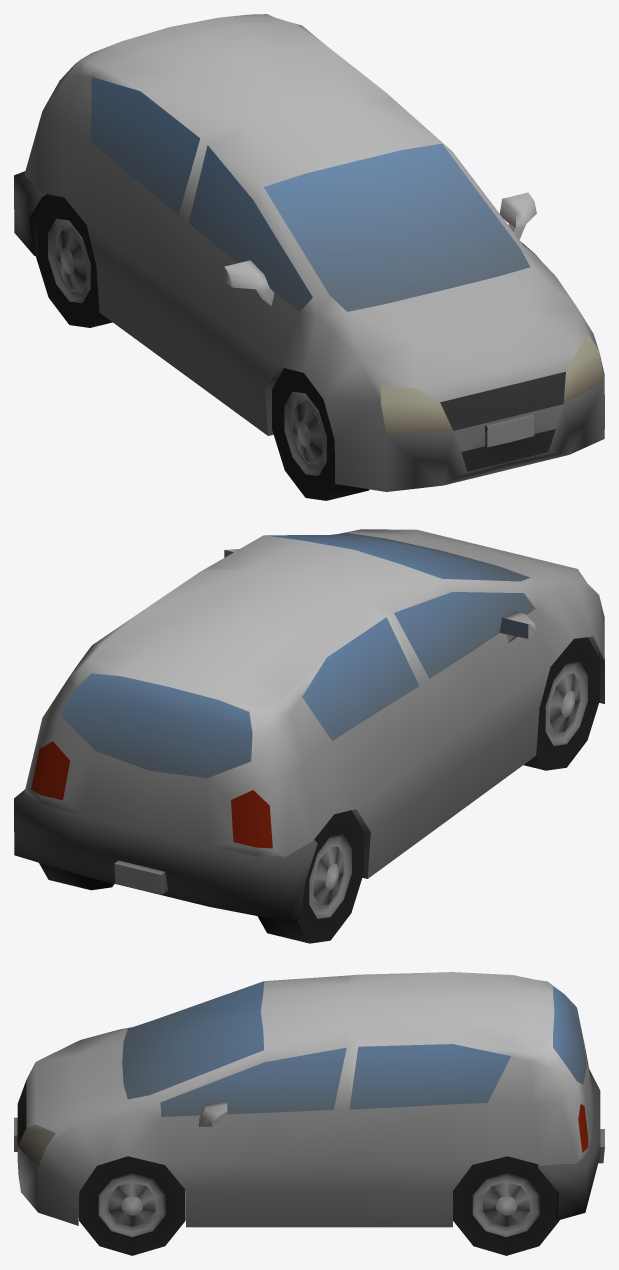
The model's file is vehicles-cars-hatchback_v2.fbx.
The picture shows the model from 3 angles, top to bottom: view 1: azimuth 30°, elevation 25°; view 2: azimuth 150°, elevation 25°; view 3: azimuth 270°, elevation 25°; orthographic projection. The views are drawn at different scales.
Parts seen in each view (by area): view 1: Hatchback_v2; view 2: Hatchback_v2; view 3: Hatchback_v2.
Boxes of the visible parts, x1,y1,x2,y2 form: Hatchback_v2: (14,14,604,500); Hatchback_v2: (14,529,604,943); Hatchback_v2: (14,972,604,1255).
Bounding box in the file's own units: 2.07 × 1.7 × 4.4.
